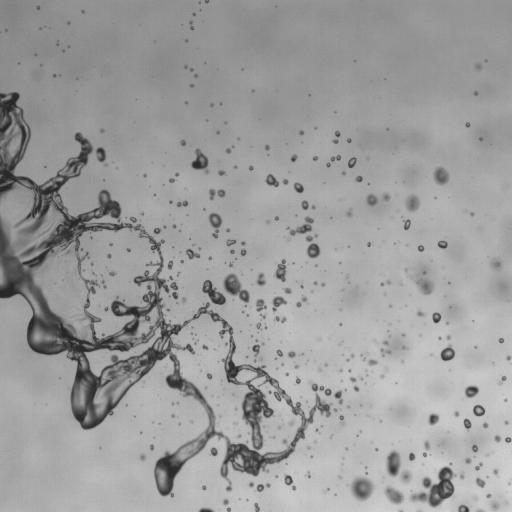droplet: (409, 464, 456, 507), (349, 476, 375, 501), (191, 149, 208, 173), (384, 485, 404, 504), (305, 235, 320, 258), (433, 167, 449, 185), (415, 279, 434, 294), (274, 259, 286, 281), (405, 194, 419, 211), (271, 296, 286, 311), (440, 345, 454, 361), (265, 174, 278, 187), (209, 189, 225, 199), (490, 257, 502, 270), (465, 385, 478, 397), (473, 404, 485, 416), (428, 413, 439, 425), (186, 249, 199, 259), (256, 299, 266, 312), (366, 194, 377, 205), (334, 390, 343, 403), (293, 182, 303, 193), (256, 273, 265, 285), (432, 312, 441, 323), (476, 477, 485, 487), (463, 419, 471, 430), (348, 157, 356, 167), (437, 240, 447, 248), (380, 349, 391, 356), (458, 504, 469, 511), (301, 200, 309, 209), (491, 501, 499, 509), (210, 447, 217, 456), (177, 200, 187, 206), (404, 219, 410, 229), (367, 359, 377, 365), (226, 239, 235, 245), (167, 260, 173, 269), (424, 441, 430, 450), (383, 193, 390, 200), (494, 435, 501, 442), (409, 452, 415, 460), (291, 154, 297, 161), (153, 228, 160, 234), (288, 351, 295, 357), (283, 288, 291, 293), (254, 503, 259, 511), (276, 350, 282, 356), (206, 373, 212, 379), (218, 170, 225, 175), (355, 176, 362, 181), (109, 271, 116, 276), (417, 311, 424, 316), (256, 322, 261, 329), (475, 64, 481, 69), (346, 210, 351, 216), (418, 245, 423, 251), (241, 249, 246, 255), (295, 377, 300, 383), (350, 377, 356, 382), (483, 422, 488, 428), (505, 437, 511, 442), (472, 445, 477, 451), (140, 454, 145, 460), (465, 458, 471, 463), (493, 469, 498, 475), (459, 473, 464, 479), (180, 140, 185, 145), (226, 148, 231, 153), (283, 179, 288, 184), (301, 296, 306, 301), (296, 302, 301, 307), (260, 314, 265, 319), (498, 338, 503, 343), (506, 355, 511, 360), (354, 386, 359, 391), (454, 411, 459, 416), (249, 482, 254, 487), (150, 444, 154, 450), (265, 145, 269, 150), (169, 178, 174, 182), (182, 297, 186, 302), (446, 335, 450, 340), (383, 341, 388, 345), (202, 345, 207, 349), (289, 420, 293, 425), (306, 472, 310, 477), (473, 495, 477, 500), (486, 494, 491, 498), (299, 130, 303, 134), (347, 138, 351, 142), (313, 156, 317, 160), (326, 163, 330, 167), (249, 166, 253, 170), (274, 216, 278, 220), (241, 241, 245, 245), (230, 249, 234, 253), (107, 254, 111, 258), (504, 420, 508, 424), (202, 485, 206, 489), (508, 480, 511, 485), (474, 91, 477, 95), (466, 122, 469, 126), (311, 206, 315, 209), (367, 243, 371, 246), (387, 280, 390, 284), (380, 282, 384, 285), (195, 339, 198, 343), (258, 357, 262, 360), (295, 364, 298, 368), (380, 375, 384, 378), (333, 408, 337, 411), (423, 452, 426, 456), (398, 509, 403, 511), (190, 84, 193, 87), (100, 129, 103, 132), (143, 174, 146, 177), (470, 212, 473, 215), (127, 248, 130, 251), (314, 281, 317, 284), (321, 283, 324, 286), (350, 354, 353, 357), (205, 0, 209, 2), (190, 68, 192, 71), (175, 173, 178, 175), (342, 172, 345, 174), (172, 225, 175, 227), (208, 257, 211, 259), (230, 262, 232, 265), (300, 285, 303, 287), (167, 308, 169, 311), (403, 346, 406, 348), (339, 369, 342, 371), (504, 399, 507, 401), (234, 422, 237, 424), (238, 434, 240, 437), (227, 229, 229, 231), (339, 323, 341, 325), (263, 326, 265, 328), (438, 337, 440, 339), (254, 358, 256, 360), (347, 358, 349, 360), (286, 373, 288, 375), (360, 377, 362, 379), (172, 415, 174, 417), (375, 448, 377, 450), (486, 454, 488, 456), (339, 476, 341, 478)
ligament: (0, 92, 331, 495), (386, 450, 412, 483), (223, 273, 249, 304), (202, 280, 225, 305), (288, 216, 313, 235), (208, 212, 222, 237), (283, 474, 295, 489), (252, 342, 264, 356), (256, 483, 270, 491), (333, 131, 340, 143), (223, 499, 230, 511), (274, 316, 286, 322), (198, 507, 214, 511), (330, 155, 340, 161), (499, 376, 506, 384), (475, 462, 482, 470), (339, 415, 344, 424), (101, 282, 105, 287), (190, 23, 193, 29), (475, 509, 484, 511), (362, 355, 364, 360), (417, 510, 422, 511)
